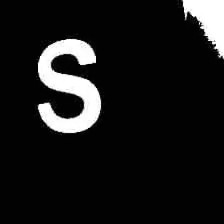LTR_S: (28, 31, 107, 142)
